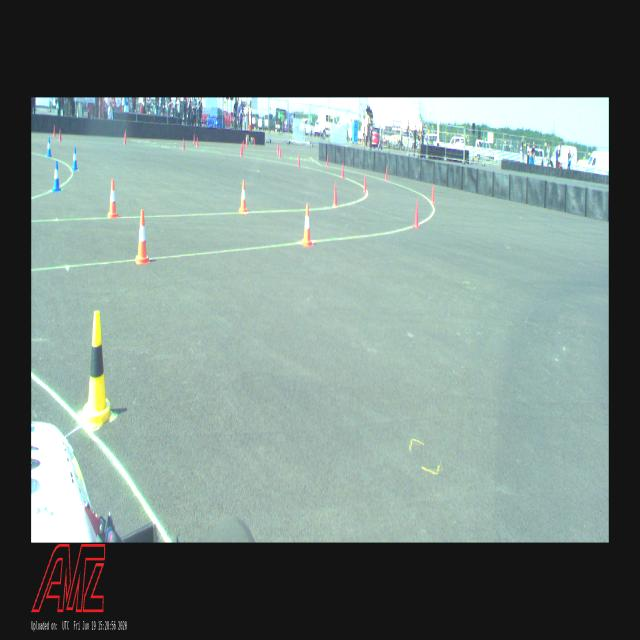blue_cone: (52, 161, 61, 191), (72, 148, 78, 170), (46, 137, 52, 157)
orange_cone: (136, 210, 150, 264), (302, 203, 312, 246), (107, 179, 118, 218), (239, 180, 247, 212)
yellow_cone: (80, 311, 114, 425)
